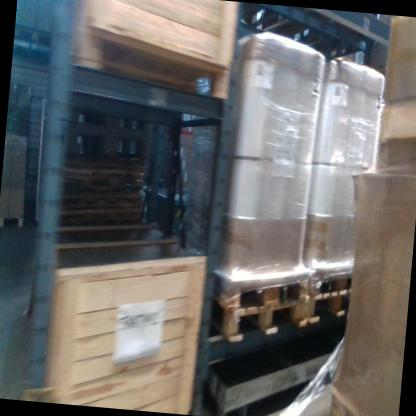pallet: (67, 23, 234, 104), (231, 2, 379, 56), (208, 295, 310, 351), (210, 269, 311, 319), (64, 127, 150, 155), (66, 111, 150, 136), (307, 284, 351, 330), (308, 266, 353, 302), (0, 214, 24, 231)
